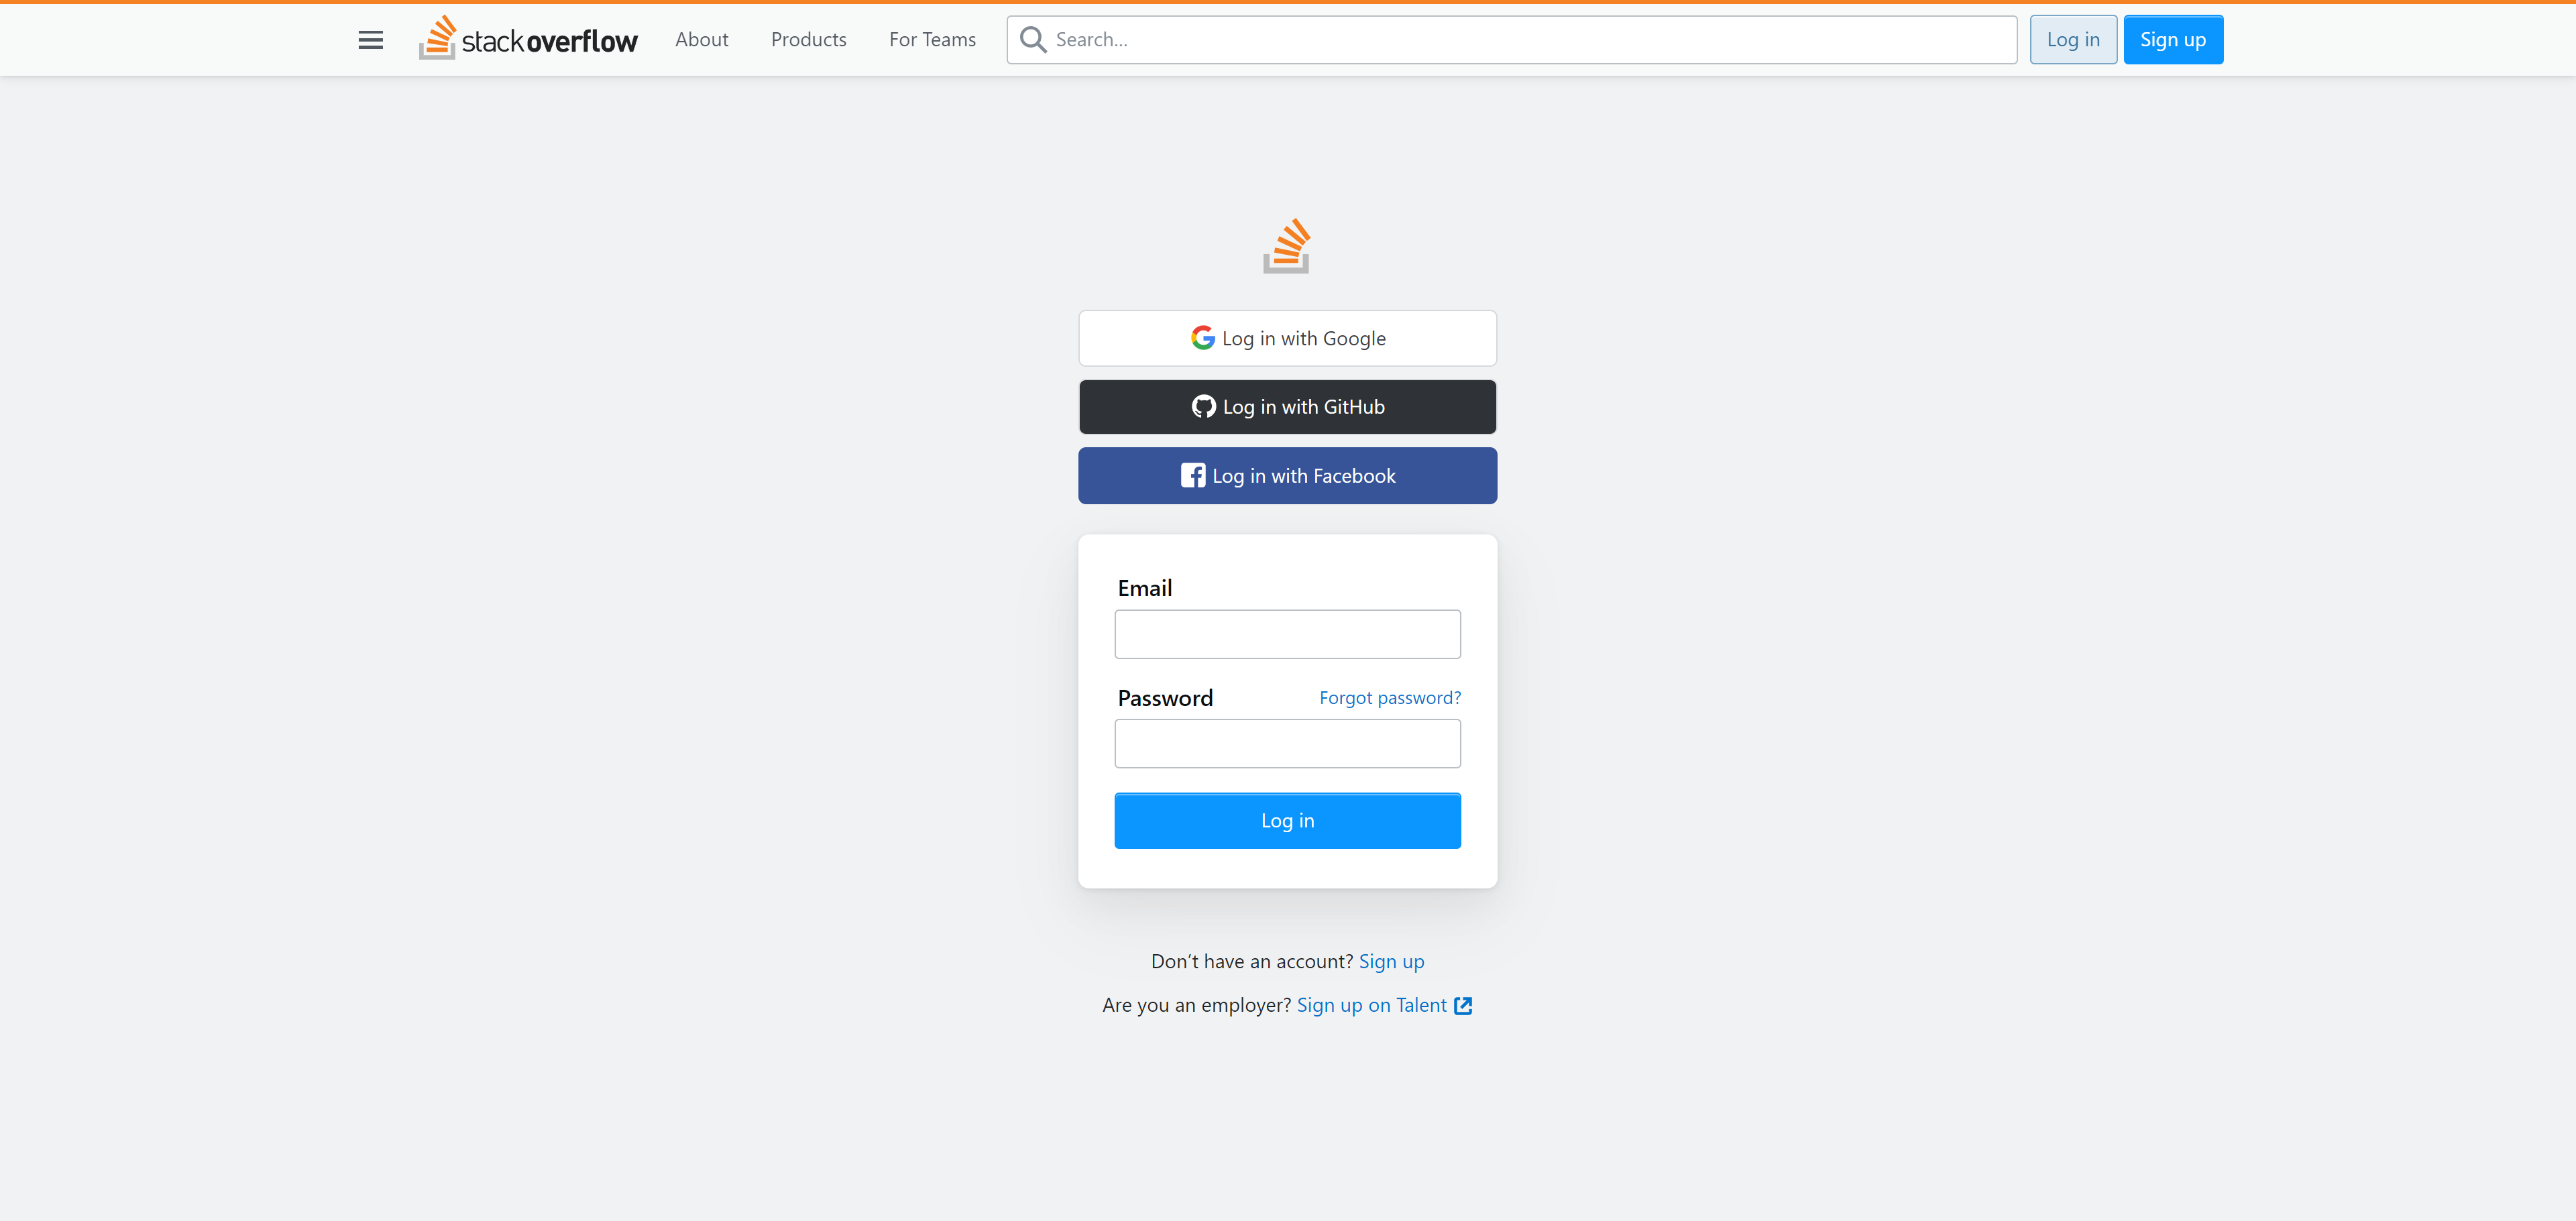login_button: (1114, 794, 1460, 850)
login_form: (1107, 572, 1470, 856)
